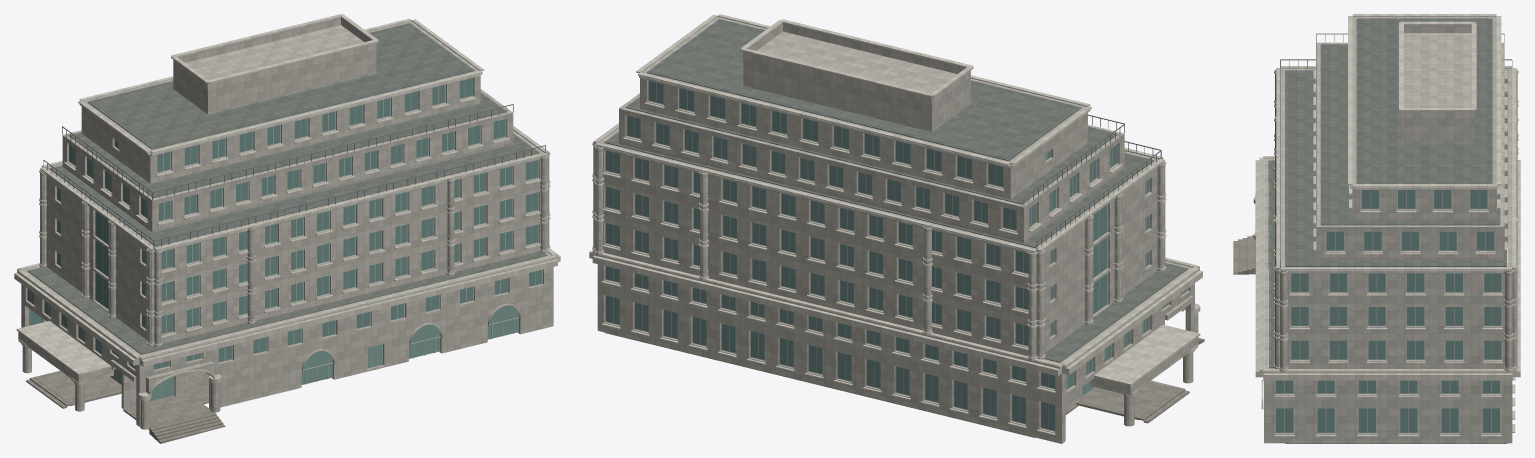
3 renders of one model, left to right at view 1: azimuth 30°, elevation 25°; view 2: azimuth 150°, elevation 25°; view 3: azimuth 270°, elevation 25°, orthographic. The views are drawn at different scales.
Parts seen in each view (by area): view 1: arts__stone, arts__roof, arts__trim, arts__glass, arts__frame, arts__entryglass, arts__steel, arts__corner-landing, arts__threshold-main, arts__stair-corner, arts__plinth; view 2: arts__stone, arts__trim, arts__glass, arts__roof, arts__frame, arts__threshold-main, arts__steel; view 3: arts__stone, arts__roof, arts__trim, arts__glass, arts__frame, arts__stair-corner, arts__steel.
Boxes of the visible parts, bbox=[...] form: arts__stone: bbox=[18, 18, 553, 429]; arts__roof: bbox=[27, 23, 547, 372]; arts__trim: bbox=[14, 14, 560, 400]; arts__glass: bbox=[28, 78, 542, 369]; arts__frame: bbox=[27, 78, 542, 401]; arts__entryglass: bbox=[111, 305, 518, 401]; arts__steel: bbox=[43, 104, 545, 248]; arts__corner-landing: bbox=[123, 393, 213, 429]; arts__threshold-main: bbox=[34, 370, 121, 405]; arts__stair-corner: bbox=[149, 412, 225, 443]; arts__plinth: bbox=[150, 371, 208, 404]; arts__stone: bbox=[593, 17, 1198, 443]; arts__trim: bbox=[589, 14, 1202, 435]; arts__glass: bbox=[606, 80, 1187, 430]; arts__roof: bbox=[604, 19, 1187, 362]; arts__frame: bbox=[605, 80, 1187, 431]; arts__threshold-main: bbox=[1076, 380, 1180, 419]; arts__steel: bbox=[1023, 114, 1161, 250]; arts__stone: bbox=[1255, 17, 1517, 443]; arts__roof: bbox=[1268, 18, 1507, 368]; arts__trim: bbox=[1253, 14, 1520, 436]; arts__glass: bbox=[1276, 190, 1501, 432]; arts__frame: bbox=[1275, 190, 1501, 433]; arts__stair-corner: bbox=[1233, 235, 1255, 274]; arts__steel: bbox=[1280, 33, 1512, 268].
Bounding box in the file's own units: 53.31 × 30.41 × 27.72.
8 materials, 4 textured.
